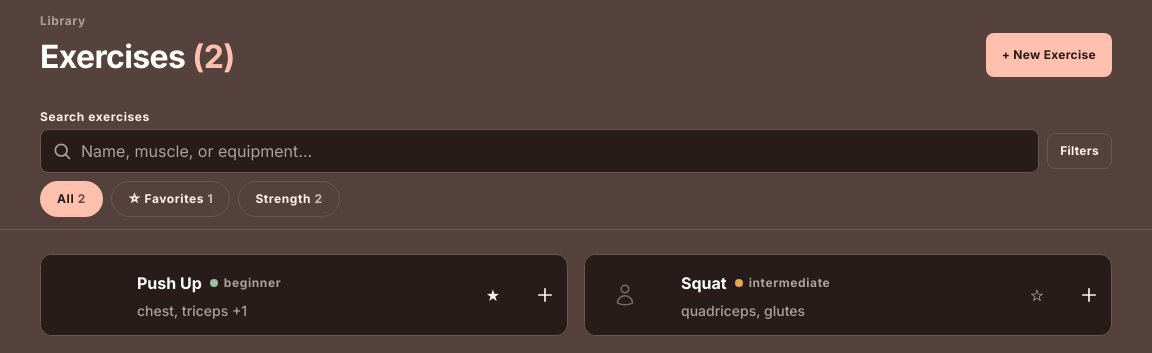
Test: ExercisesPage empty state boundaries › shows generic empty state when favorites filter is active but search yields no match
Click the tab "☆ Favorites 1".
click(171, 199)  # box [111,181,230,217]
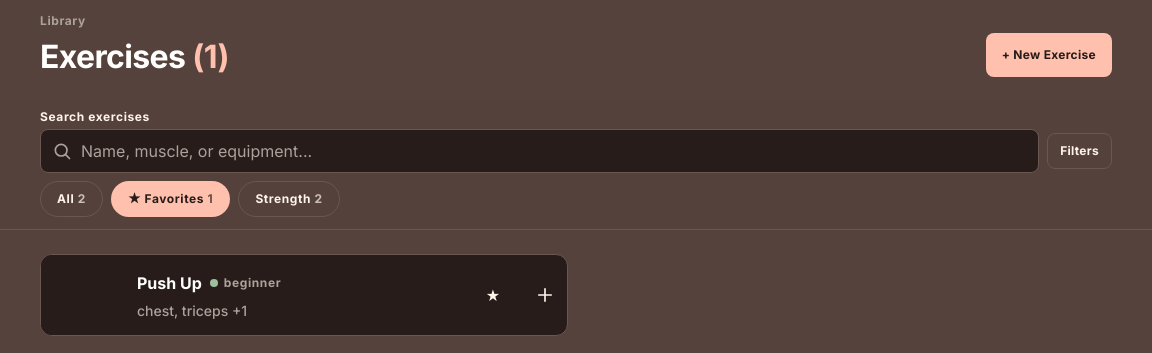
Expected: the heading "Push Up" is shown, [137,271,202,295]
Result: the heading "Squat" is gone
Note: Now search for something that doesn't match any favorites
Type "zzznonexistent" into the search field.
click(540, 151); type("zzznonexistent")  # box [40,129,1039,173]
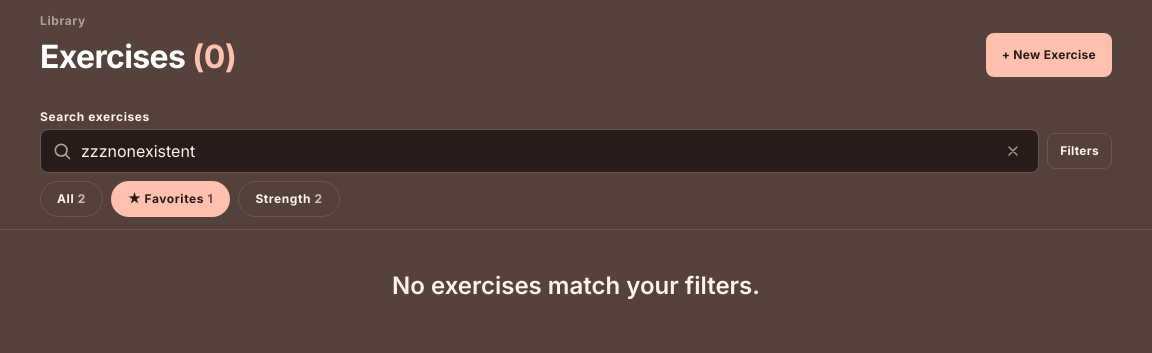
Result: the heading "No exercises match your filters." is shown at [392,270,760,302]
